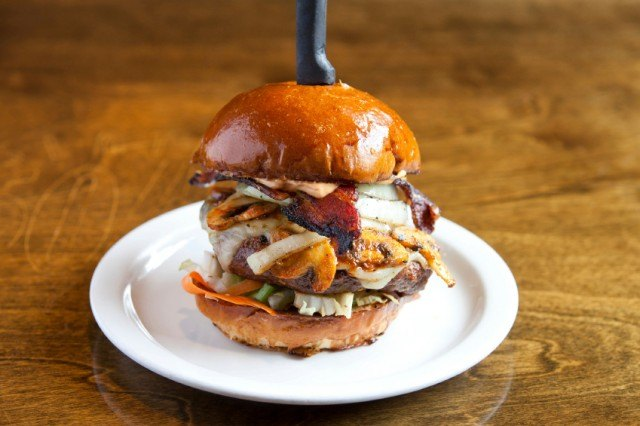hamburger: (188, 61, 445, 346)
